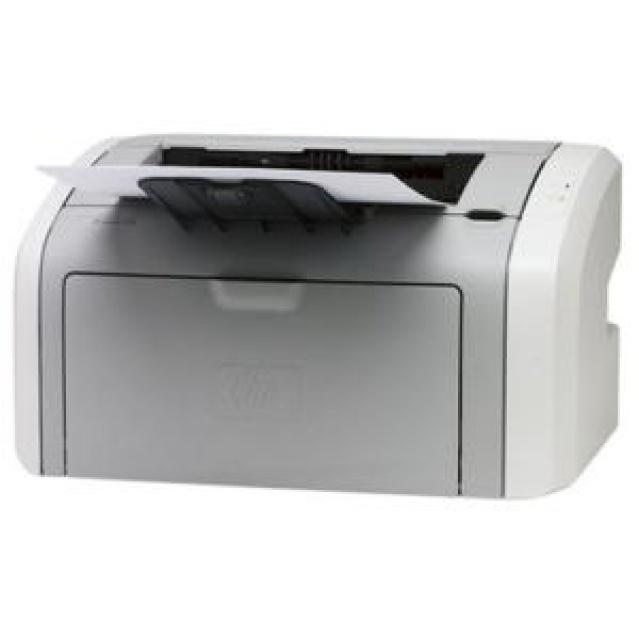Printer: (13, 134, 621, 499)
